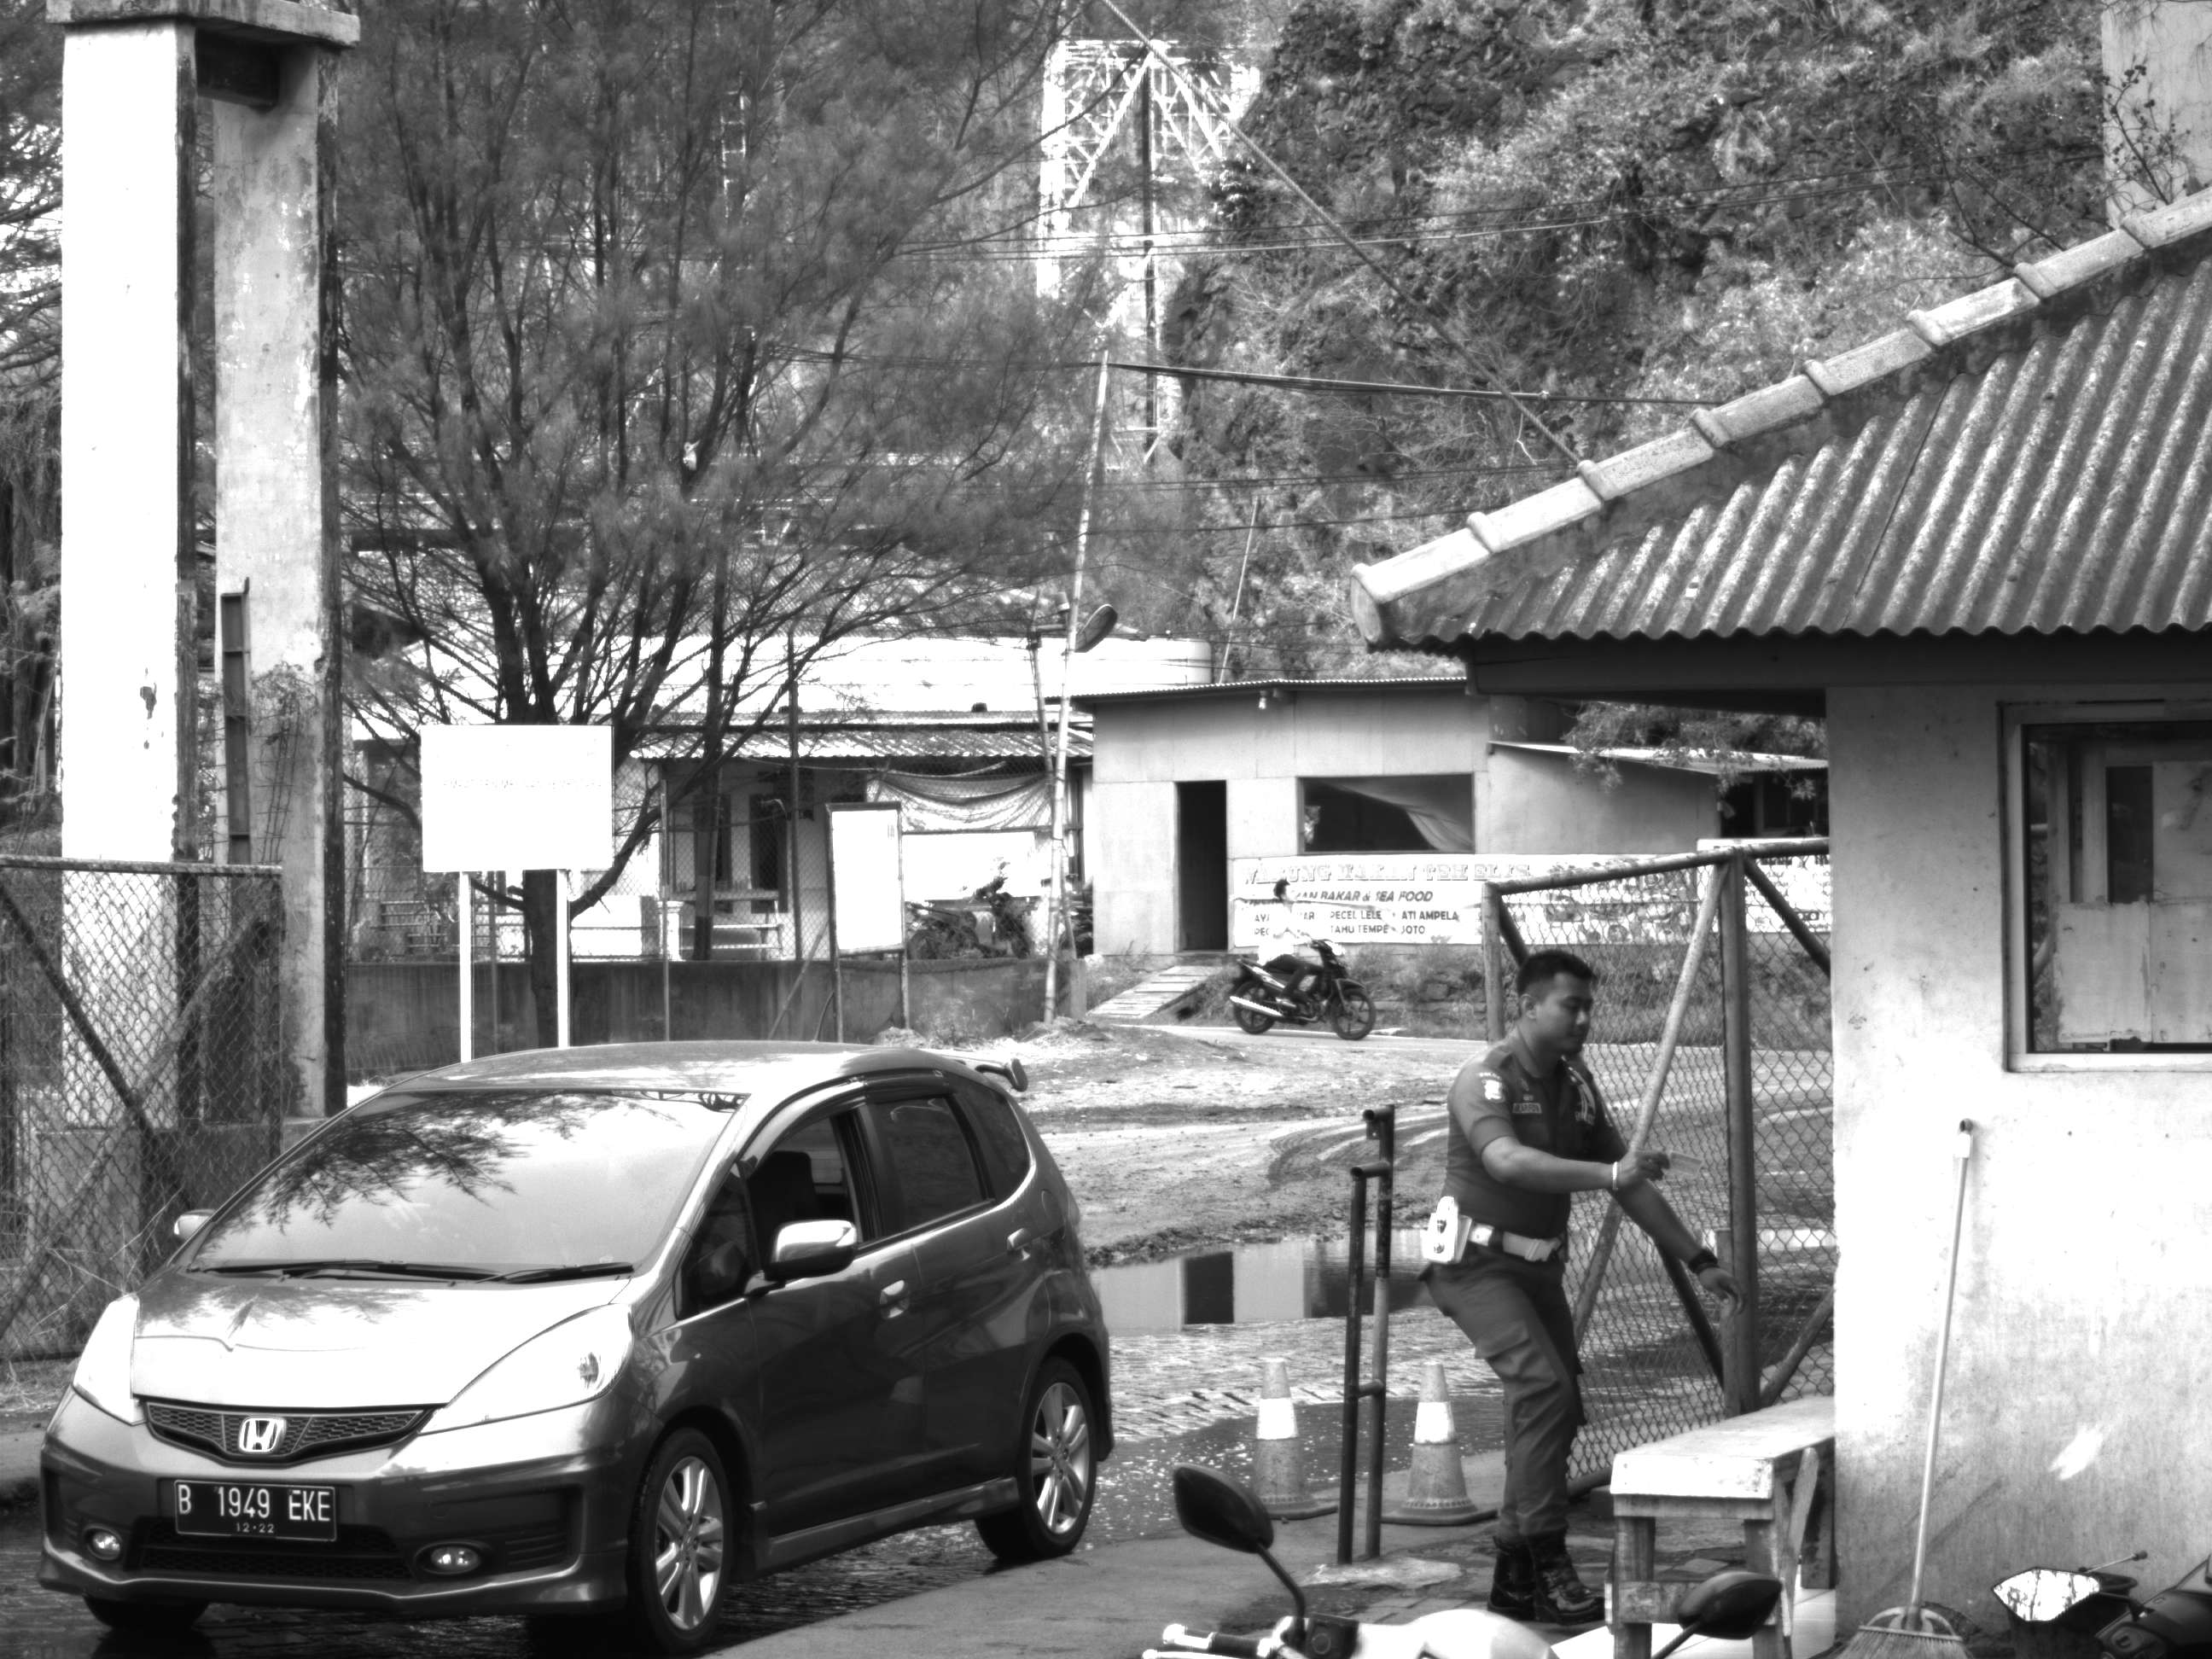day_small_front: (41, 1062, 749, 1646)
plate: (171, 1481, 346, 1549)
